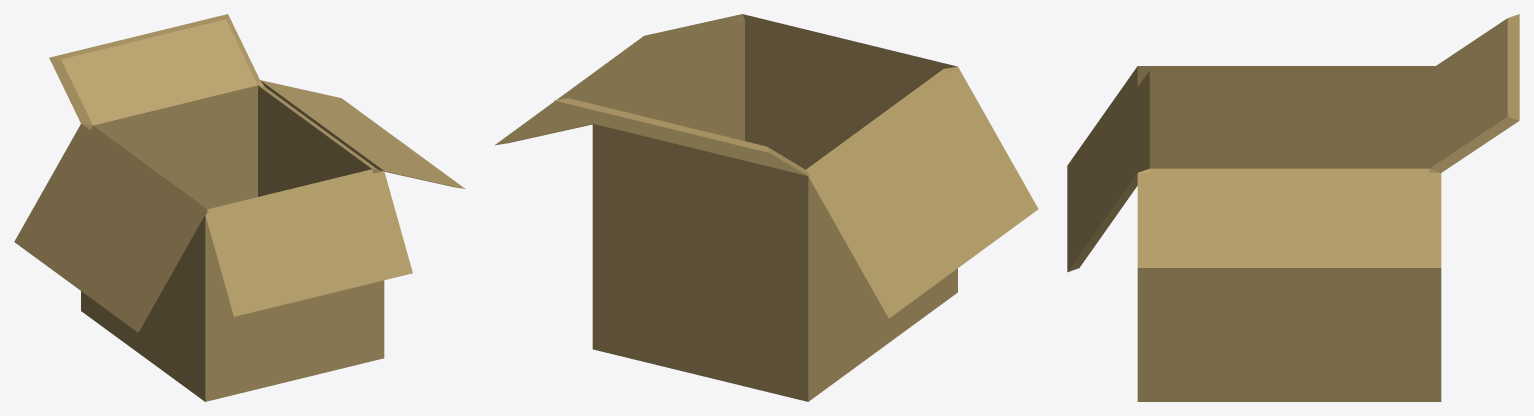
3 renders of one model, left to right at view 1: azimuth 30°, elevation 25°; view 2: azimuth 150°, elevation 25°; view 3: azimuth 270°, elevation 25°, orthographic. The views are drawn at different scales.
Visible parts, largest first — view 1: коробка.001; view 2: коробка.001; view 3: коробка.001.
Part boxes in pixels (<box>): коробка.001: <box>14,14,464,401</box>; коробка.001: <box>495,14,1038,401</box>; коробка.001: <box>1067,14,1519,401</box>.
Bounding box in the file's own units: 260 × 174 × 254.
